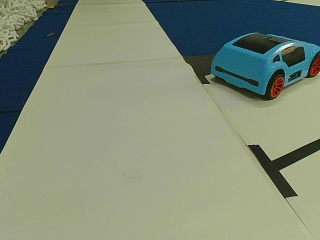car: (209, 33, 318, 98)
